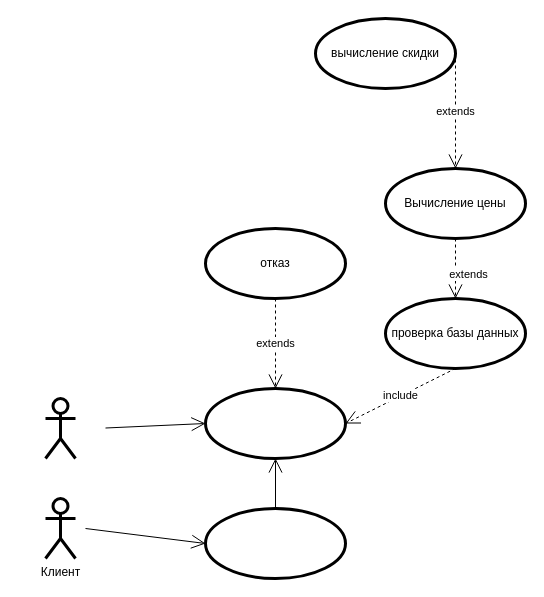
Some shapes in this 544 by 597 pixel diagram are drawn without their labels. Here are the shapes that lost their labels. From the top down, the centre of each, then its label:
At point 60,428: "Администратор".
At point 275,423: "Оформление документов / предоставление вариантов".
At point 275,543: "Аренда/Бронь заявка".
